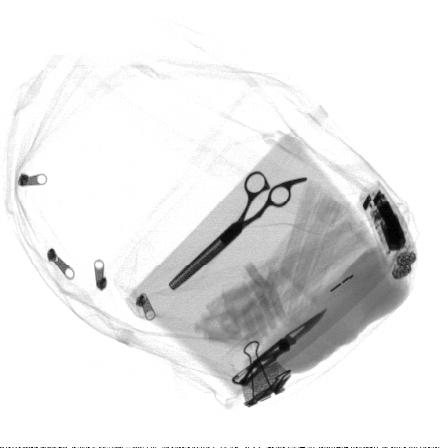Knife: (233, 307, 329, 385)
Scissors: (168, 169, 309, 291)
